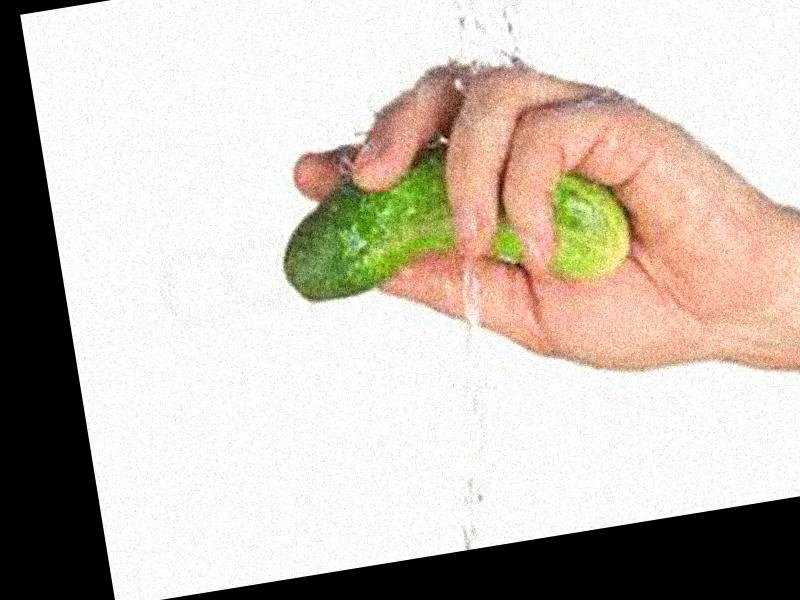Cucumber: (268, 127, 633, 322)
